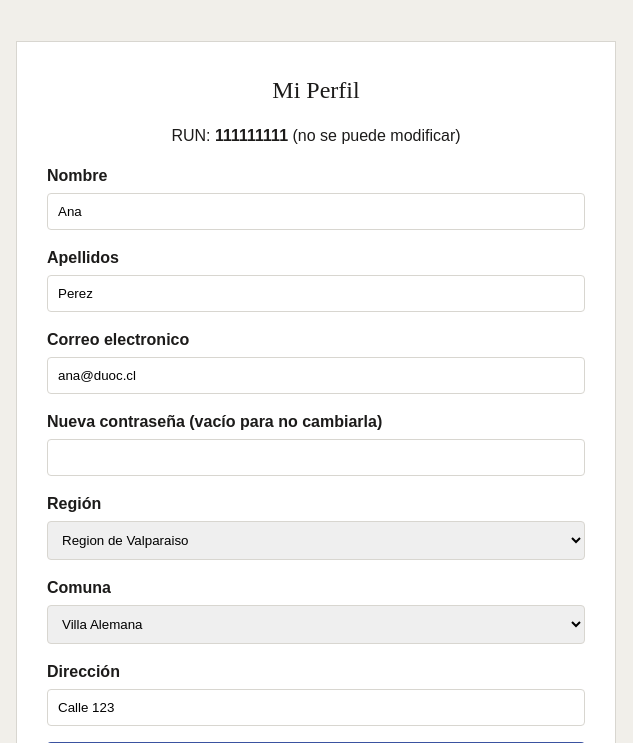
Test: Perfil › valida los campos obligatorios
Clear the field labelled "Nombre". click: (316, 212)
box: [47,193,585,230]
(page scrolled)
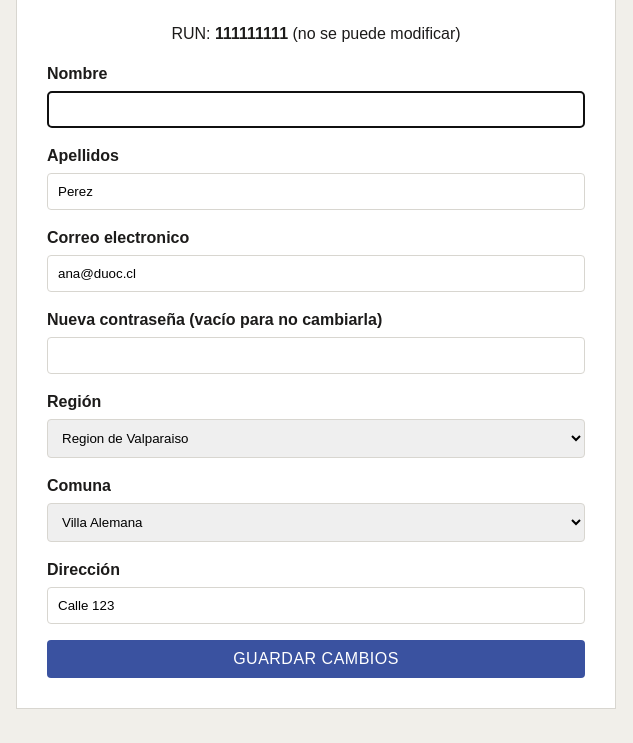
Click the button "Guardar cambios". click: (316, 659)
box: [47,640,585,678]
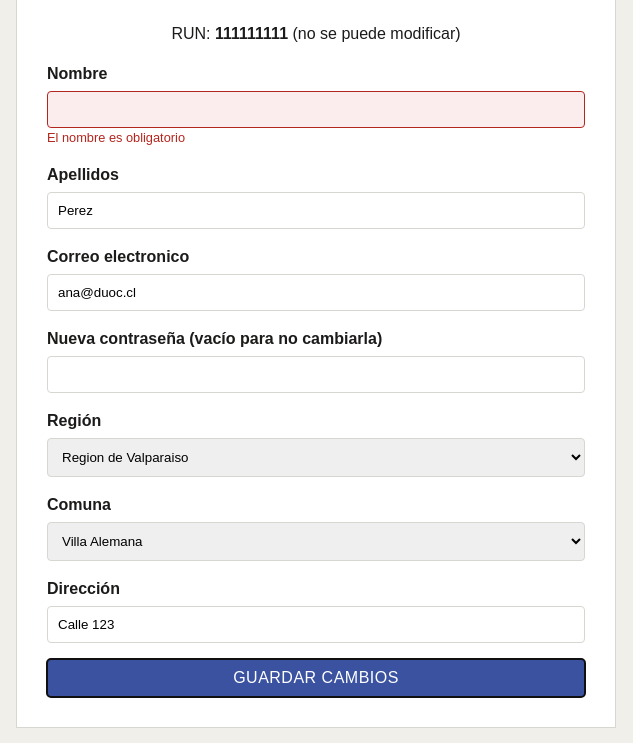
Expected: the text "El nombre es obligatorio" is shown, [47,130,185,145]
